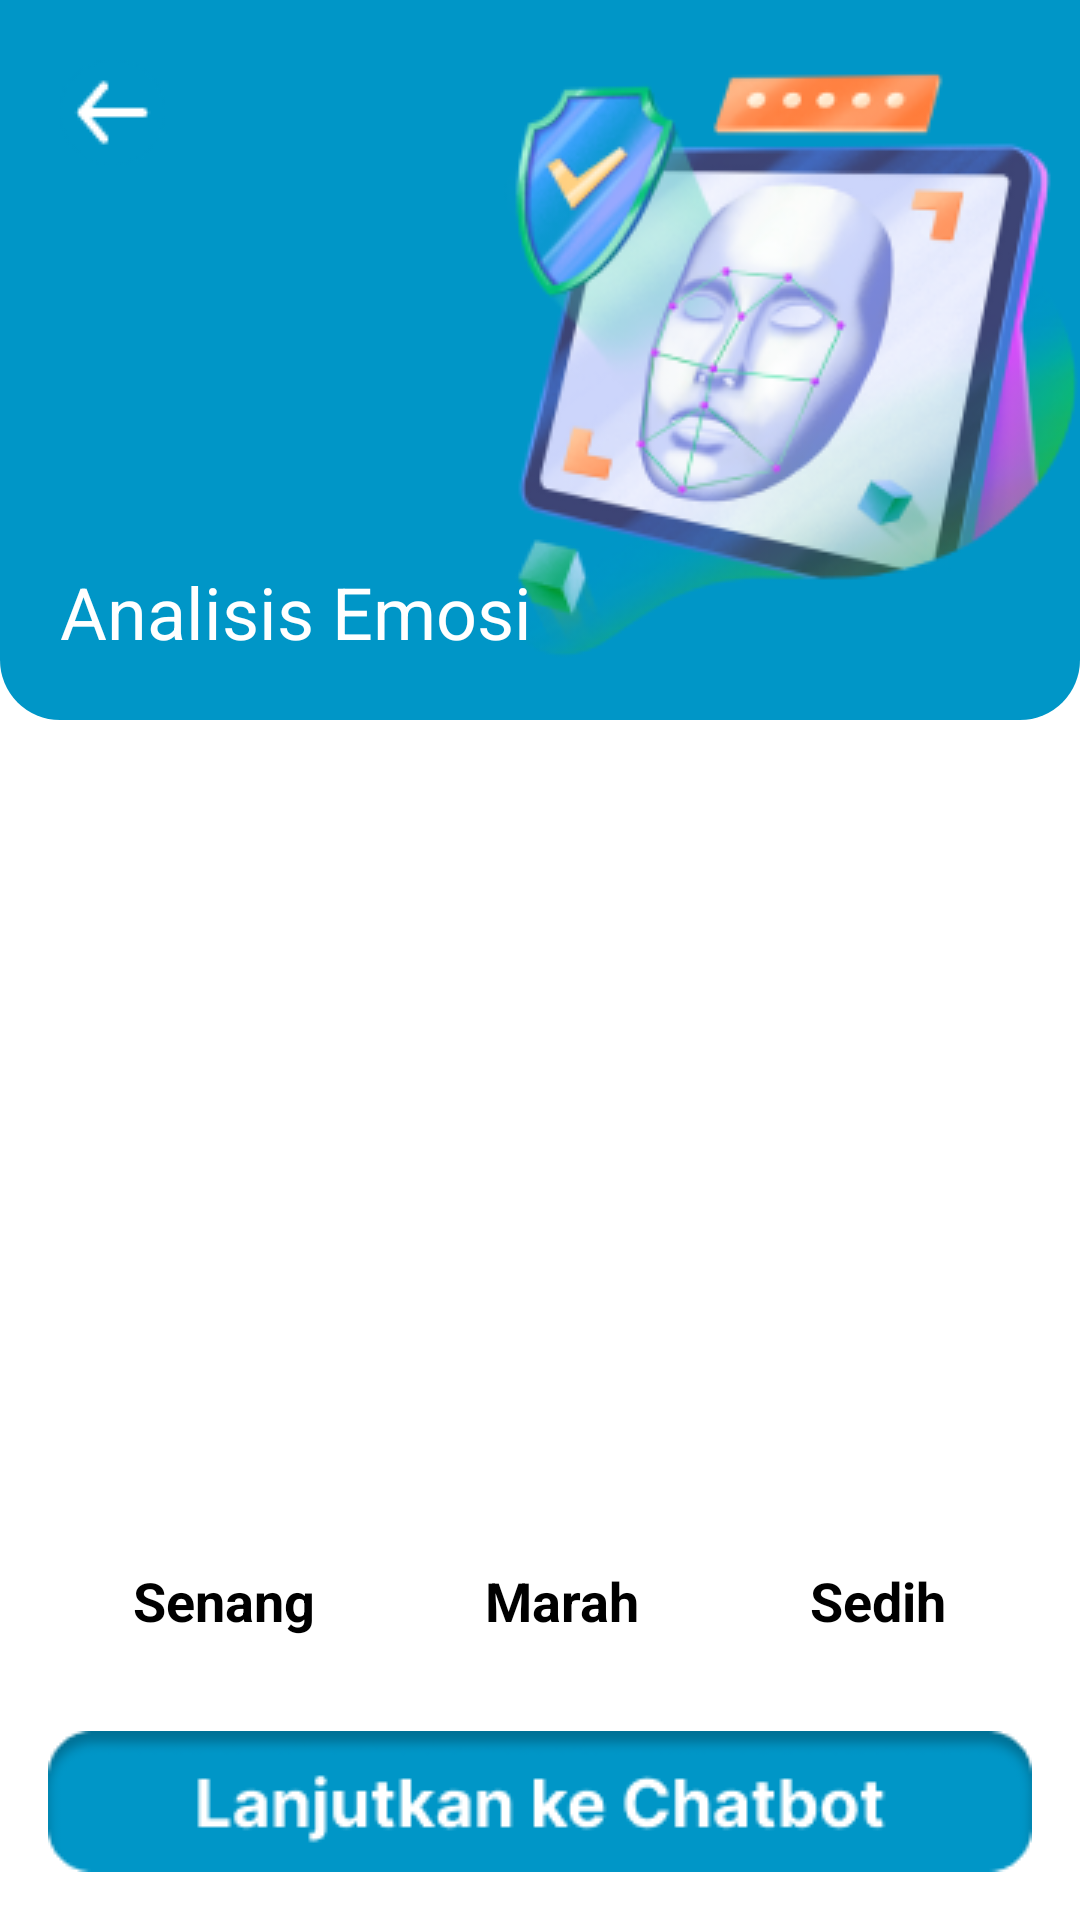

Locate icon controls on the screen. Image size 1080w x 1920h, boxes as (x1, y1, x2, y2).
arrow back: (76, 80, 149, 145)
